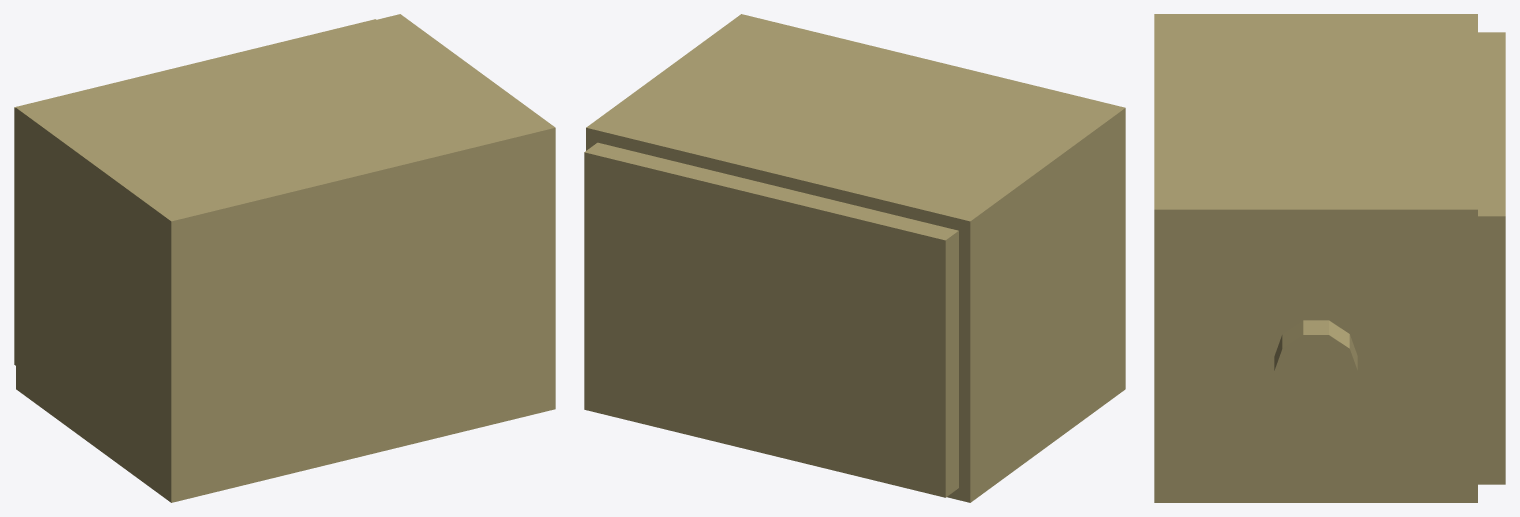
The model's file is junction-box.glb.
The picture shows the model from 3 angles, left to right: view 1: azimuth 30°, elevation 25°; view 2: azimuth 150°, elevation 25°; view 3: azimuth 270°, elevation 25°; orthographic projection. The views are drawn at different scales.
Parts seen in each view (by area): view 1: junction-box_merged; view 2: junction-box_merged; view 3: junction-box_merged.
Boxes of the visible parts, bbox=[...] form: junction-box_merged: bbox=[14, 14, 555, 502]; junction-box_merged: bbox=[584, 14, 1125, 502]; junction-box_merged: bbox=[1154, 14, 1505, 502].
Bounding box in the file's own units: 0.215 × 0.14 × 0.152.
